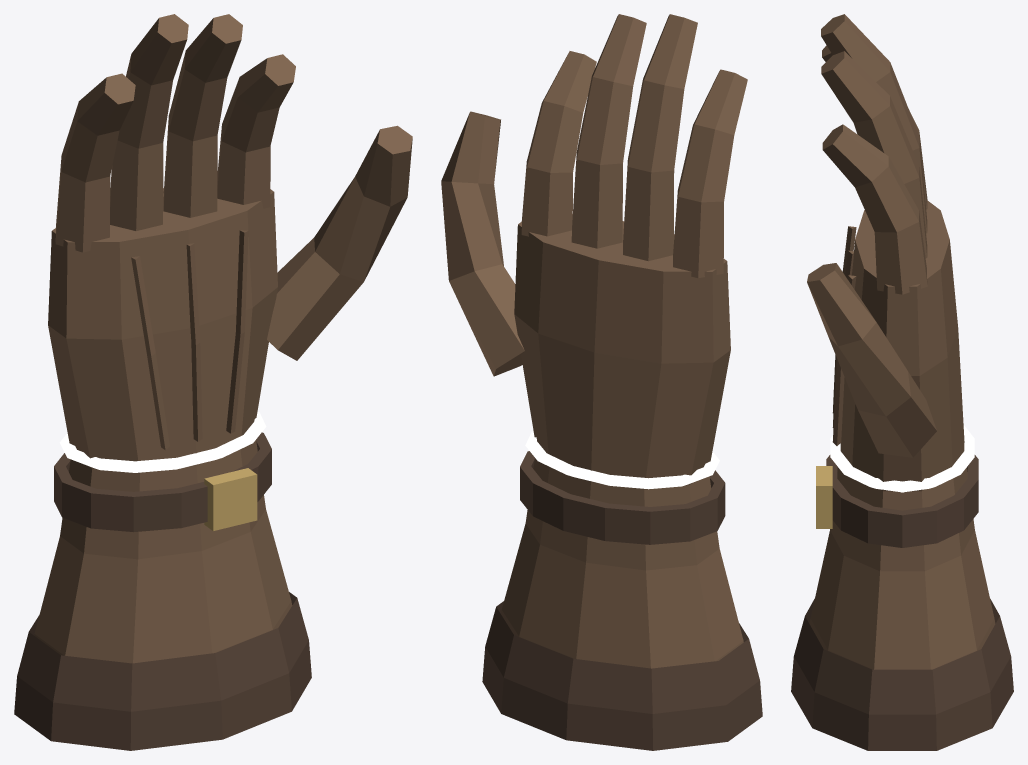
The model's file is relic-glove.glb.
3 views of the same model, side by side, from view 1: azimuth 30°, elevation 25°; view 2: azimuth 150°, elevation 25°; view 3: azimuth 270°, elevation 25° (orthographic). The views are drawn at different scales.
Parts seen in each view (by area): view 1: glove_body; view 2: glove_body; view 3: glove_body.
Part boxes in pixels (x1,y1,x2,y2): glove_body: (14,14,412,750); glove_body: (441,14,762,750); glove_body: (791,14,1013,750).
Size of the model in its own units: 0.2664 by 0.5248 by 0.16.
